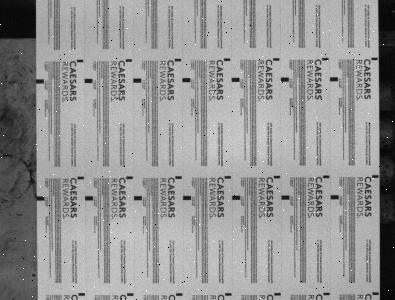qblock: (84, 78, 93, 83), (330, 194, 339, 199), (182, 77, 190, 82), (330, 76, 338, 81), (85, 195, 93, 200), (134, 195, 142, 200), (231, 77, 240, 81), (280, 77, 289, 81), (232, 195, 241, 199), (281, 195, 290, 199), (133, 78, 141, 82), (183, 195, 191, 199), (36, 79, 44, 83), (36, 196, 44, 200)
smallqblock: (224, 57, 231, 61), (274, 292, 281, 296), (274, 175, 281, 178), (126, 176, 133, 179), (78, 293, 85, 296), (225, 293, 232, 296), (176, 293, 183, 296), (127, 293, 134, 296), (323, 292, 330, 295), (372, 292, 379, 295), (322, 57, 329, 60), (371, 57, 378, 60), (224, 176, 231, 179), (372, 175, 379, 178), (77, 59, 83, 62), (175, 58, 181, 61), (176, 176, 182, 179), (323, 175, 329, 178), (78, 176, 84, 179), (273, 58, 280, 60), (126, 59, 132, 61)
